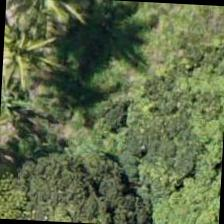Kelapa_Sawit: (0, 1, 74, 94)
